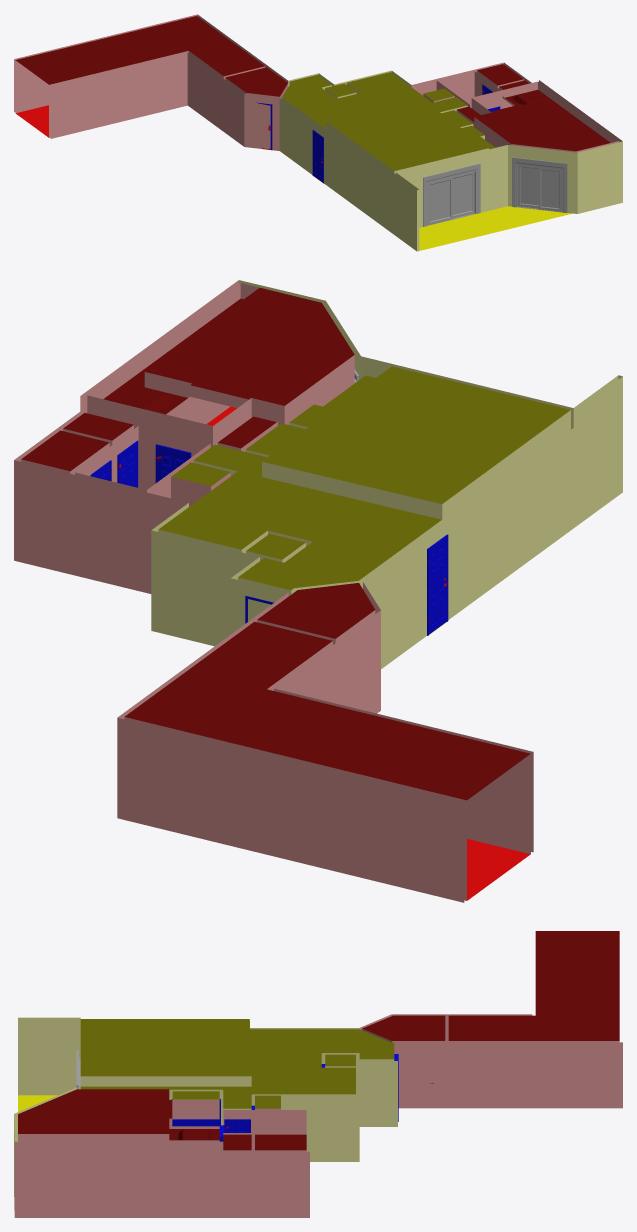
Rendered from blueprint_4.fbx.
3 renders of one model, top to bottom at view 1: azimuth 30°, elevation 25°; view 2: azimuth 150°, elevation 25°; view 3: azimuth 270°, elevation 25°, orthographic. The views are drawn at different scales.
Parts seen in each view (by area): view 1: walls_entryHallway, walls_patio, ceiling_livingRoom, ceiling_entryHallway, walls_livingroom, ceiling_bedroom, ceiling_kitchen, walls_mainDoorway, floor_patio, ceiling_cartHallway, walls_bedroom, walls_kitchen (+10 smaller); view 2: walls_entryHallway, ceiling_livingRoom, walls_livingroom, walls_bathroom, ceiling_kitchen, walls_kitchen, ceiling_entryHallway, ceiling_bedroom, walls_cartHallway, walls_bedroom, ceiling_cartHallway, walls_patio (+10 smaller); view 3: walls_bedroom, walls_cartHallway, ceiling_livingRoom, walls_bathroom, ceiling_kitchen, ceiling_entryHallway, walls_kitchen, ceiling_bedroom, walls_patio, ceiling_cartHallway, walls_mainDoorway, walls_livingroom (+5 smaller).
Boxes of the visible parts, left/top/right/bottom form: walls_entryHallway: left=14, top=25, right=188, bottom=138; walls_patio: left=392, top=141, right=622, bottom=251; ceiling_livingRoom: left=326, top=97, right=495, bottom=170; ceiling_entryHallway: left=15, top=26, right=188, bottom=84; walls_livingroom: left=323, top=105, right=488, bottom=232; ceiling_bedroom: left=475, top=90, right=610, bottom=151; ceiling_kitchen: left=282, top=72, right=432, bottom=129; walls_mainDoorway: left=221, top=66, right=288, bottom=150; floor_patio: left=419, top=206, right=571, bottom=250; ceiling_cartHallway: left=155, top=16, right=264, bottom=76; walls_bedroom: left=471, top=80, right=622, bottom=152; walls_kitchen: left=279, top=70, right=411, bottom=174; walls_entryHallway: left=200, top=688, right=533, bottom=902; ceiling_livingRoom: left=193, top=366, right=570, bottom=503; walls_livingroom: left=193, top=410, right=575, bottom=619; walls_bathroom: left=14, top=412, right=210, bottom=593; ceiling_kitchen: left=158, top=471, right=441, bottom=590; walls_kitchen: left=151, top=503, right=446, bottom=668; ceiling_entryHallway: left=203, top=689, right=530, bottom=800; ceiling_bedroom: left=103, top=288, right=354, bottom=414; walls_cartHallway: left=117, top=621, right=337, bottom=838; walls_bedroom: left=80, top=280, right=354, bottom=447; ceiling_cartHallway: left=124, top=621, right=332, bottom=735; walls_patio: left=239, top=280, right=622, bottom=526; walls_bedroom: left=14, top=1100, right=223, bottom=1217; walls_cartHallway: left=448, top=1014, right=622, bottom=1108; ceiling_livingRoom: left=80, top=1019, right=251, bottom=1108; walls_bathroom: left=223, top=1110, right=309, bottom=1217; ceiling_kitchen: left=250, top=1029, right=394, bottom=1094; ceiling_entryHallway: left=535, top=931, right=619, bottom=1015; walls_kitchen: left=250, top=1028, right=397, bottom=1161; ceiling_bedroom: left=18, top=1089, right=219, bottom=1140; walls_patio: left=14, top=1017, right=80, bottom=1209; ceiling_cartHallway: left=448, top=1015, right=619, bottom=1040; walls_mainDoorway: left=359, top=1014, right=448, bottom=1108; walls_livingroom: left=80, top=1076, right=251, bottom=1125.
Size of the model in its own units: 1747 by 281 by 2037.
